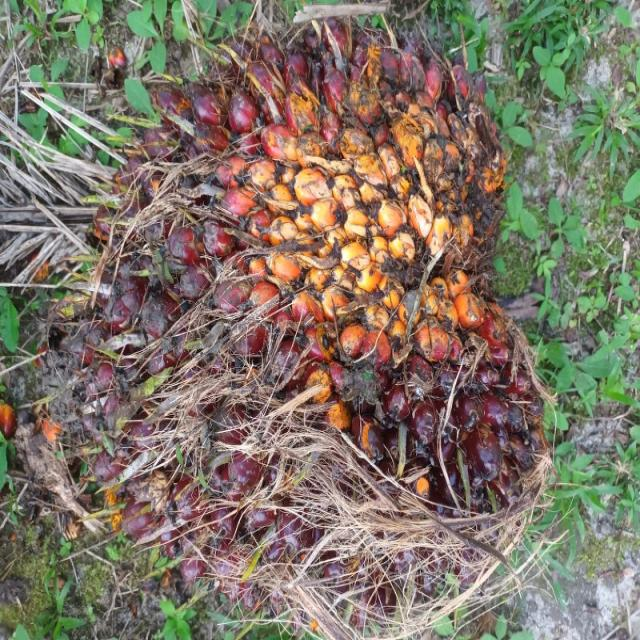fraksi 1: (9, 38, 609, 564)
